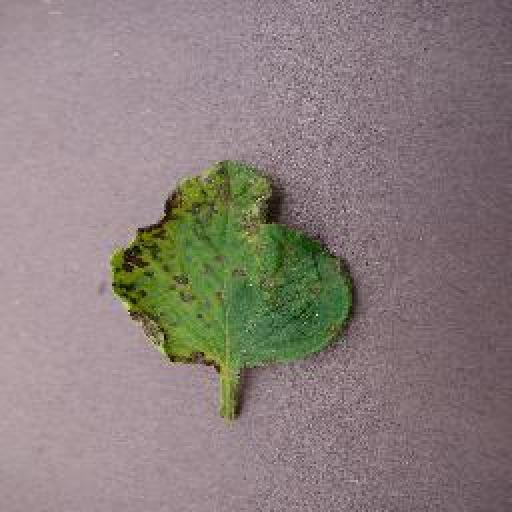Septoria: (111, 158, 356, 370)
